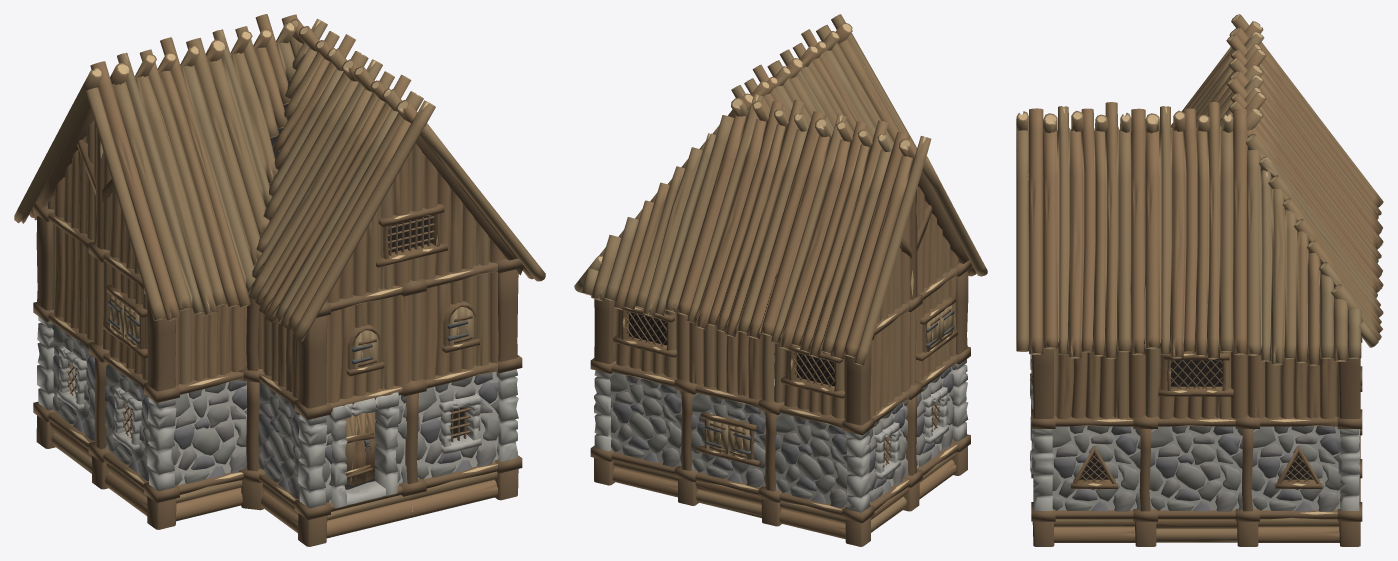
The model's file is rpgpp_ag_building_closed_11.fbx.
3 renders of one model, left to right at view 1: azimuth 30°, elevation 25°; view 2: azimuth 150°, elevation 25°; view 3: azimuth 270°, elevation 25°, orthographic. The views are drawn at different scales.
Visible parts, largest first — view 1: rpgpp_ag_building_closed_11; view 2: rpgpp_ag_building_closed_11; view 3: rpgpp_ag_building_closed_11.
Part boxes in pixels (<box>): rpgpp_ag_building_closed_11: <box>14,14,545,546</box>; rpgpp_ag_building_closed_11: <box>574,14,987,546</box>; rpgpp_ag_building_closed_11: <box>1016,14,1383,546</box>.
Bounding box in the file's own units: 10.86 × 12.77 × 10.8.
